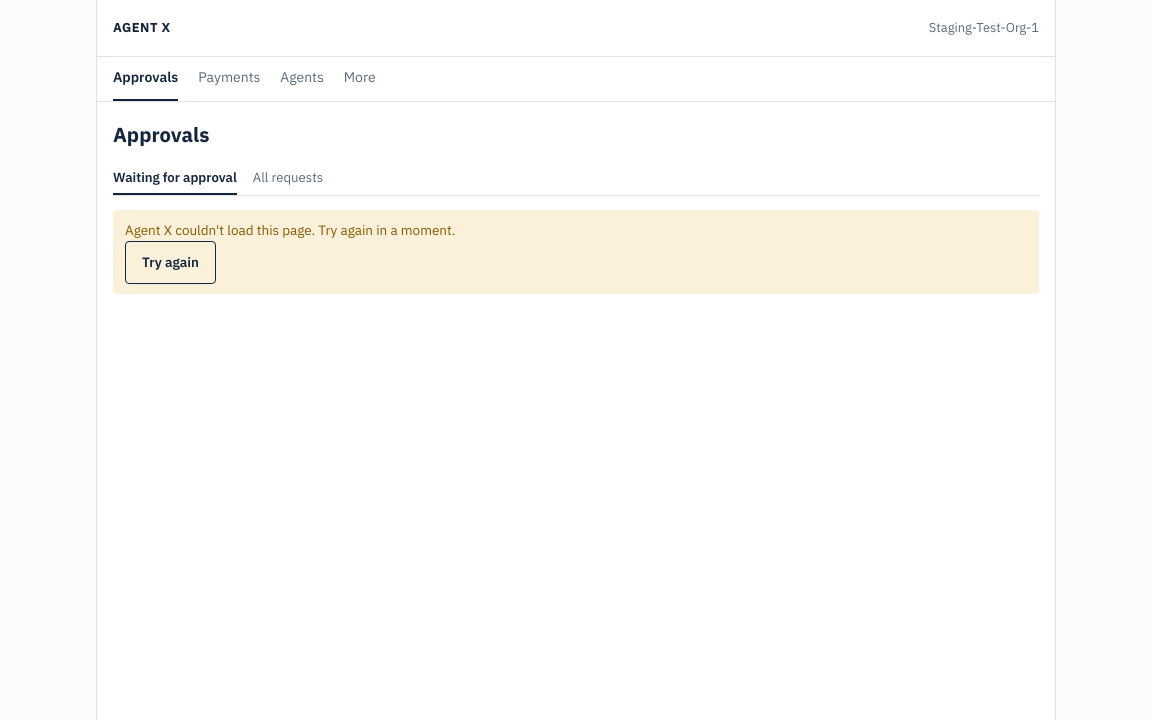
Scenario: the approvals lists (6B1) › says a list that couldn’t load failed, and reads it again on a retry
The width and height of the screenshot is (1152, 720).
Click the button "Try again".
click(170, 263)  # box x1=125 y1=241 x2=216 y2=284
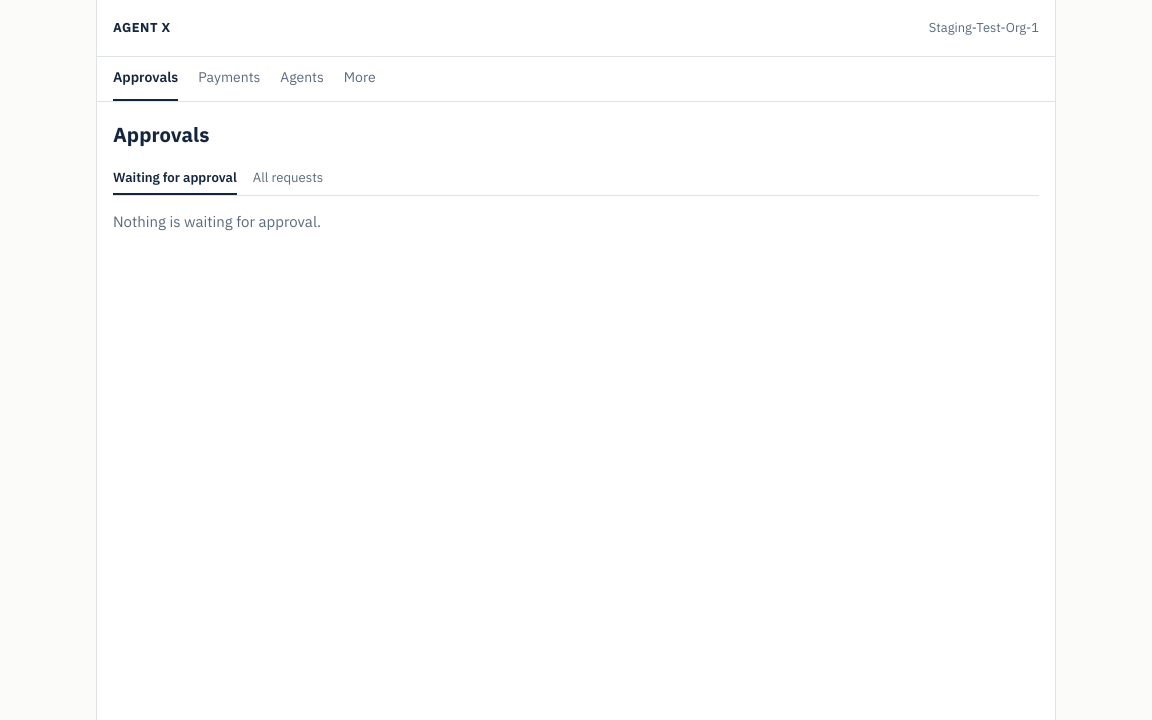
Check: the text "Nothing is waiting for approval." is shown, box x1=113 y1=212 x2=321 y2=231
